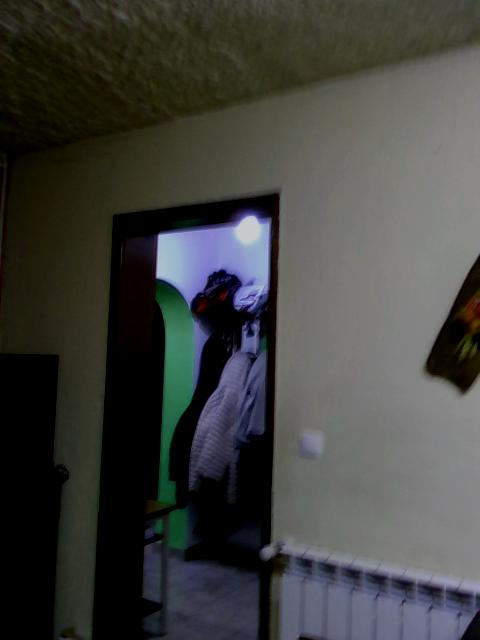open_door: (92, 188, 281, 638)
